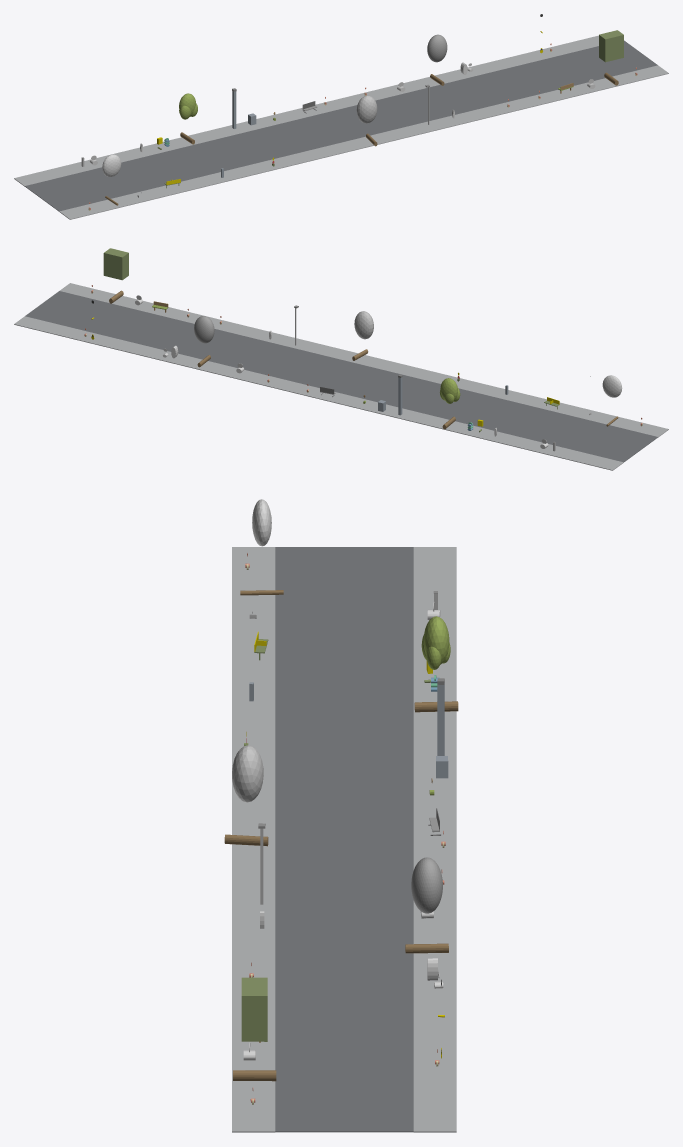
3 views of the same model, one above another, from view 1: azimuth 30°, elevation 25°; view 2: azimuth 150°, elevation 25°; view 3: azimuth 270°, elevation 25° (orthographic). The views are drawn at different scales.
Parts seen in each view (by area): view 1: road_slab, sidewalk_left, sidewalk_right, inst_0016, inst_0014, inst_0015, inst_0013, inst_0012; view 2: road_slab, sidewalk_right, sidewalk_left, inst_0016, inst_0014, inst_0015, inst_0013, inst_0012; view 3: road_slab, sidewalk_left, sidewalk_right, inst_0016, inst_0014, inst_0015, inst_0013, inst_0012.
Boxes of the visible parts, bbox=[...] form: road_slab: bbox=[24, 40, 657, 211]; sidewalk_left: bbox=[59, 65, 668, 219]; sidewalk_right: bbox=[14, 35, 598, 186]; inst_0016: bbox=[599, 30, 623, 85]; inst_0014: bbox=[356, 95, 377, 146]; inst_0015: bbox=[427, 34, 447, 85]; inst_0013: bbox=[179, 93, 197, 144]; inst_0012: bbox=[102, 154, 121, 205]; road_slab: bbox=[25, 291, 658, 462]; sidewalk_right: bbox=[14, 316, 623, 470]; sidewalk_left: bbox=[59, 283, 668, 437]; inst_0016: bbox=[103, 248, 128, 303]; inst_0014: bbox=[352, 311, 373, 360]; inst_0015: bbox=[194, 316, 214, 367]; inst_0013: bbox=[439, 378, 460, 429]; inst_0012: bbox=[602, 375, 622, 426]; road_slab: bbox=[275, 547, 413, 1132]; sidewalk_left: bbox=[232, 547, 275, 1132]; sidewalk_right: bbox=[413, 547, 456, 1132]; inst_0016: bbox=[233, 977, 276, 1081]; inst_0014: bbox=[224, 745, 268, 846]; inst_0015: bbox=[405, 857, 448, 953]; inst_0013: bbox=[414, 616, 458, 712]; inst_0012: bbox=[240, 499, 283, 595].
Bounding box in the file's own units: 80 × 6.08 × 13.51.
